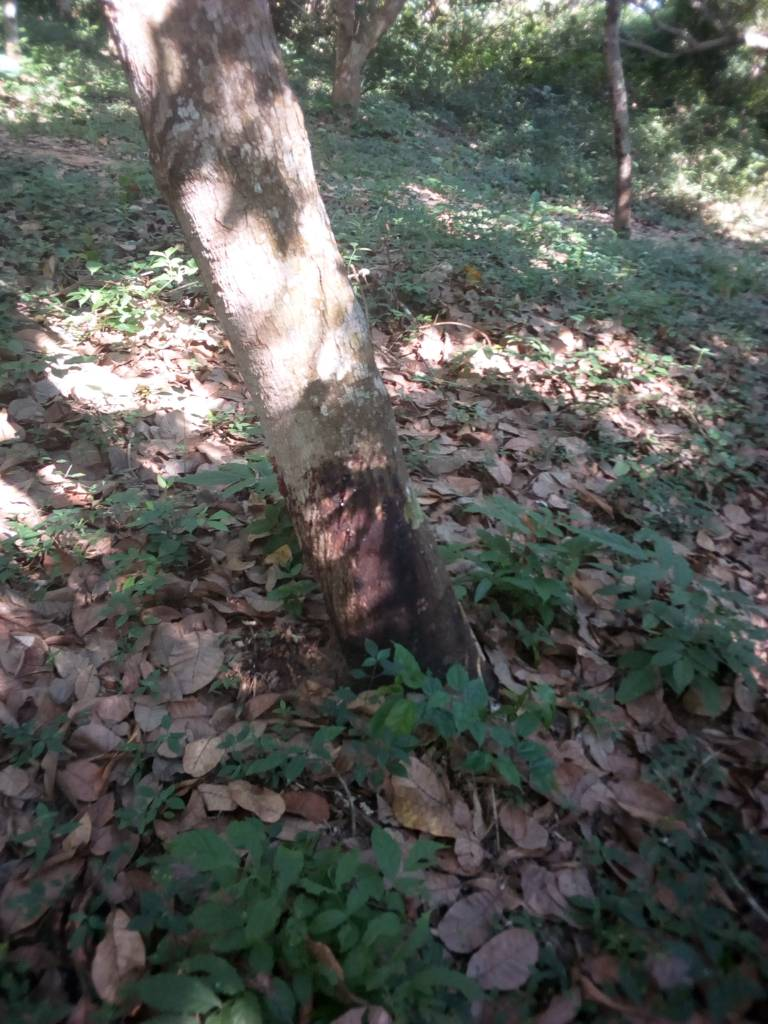Gommose: (307, 458, 440, 664)
